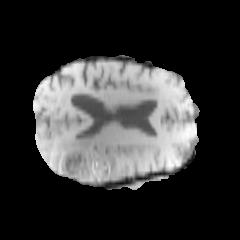glioma: (53, 132, 145, 185)
